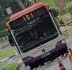bus: (21, 11, 35, 22)
